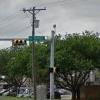Tree: (62, 26, 100, 100)
